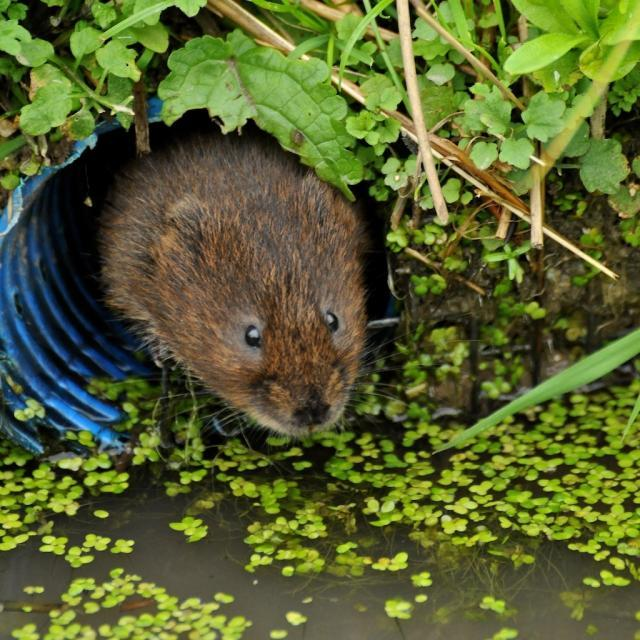rat: (97, 131, 370, 439)
